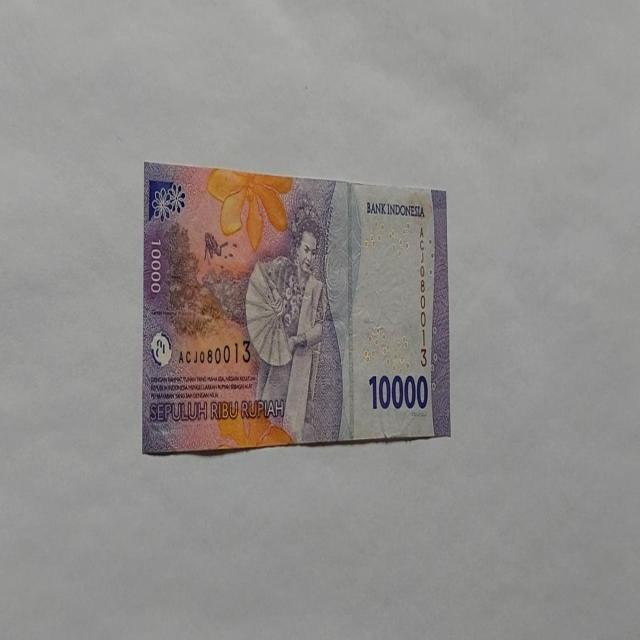Kertas: (141, 161, 451, 456)
